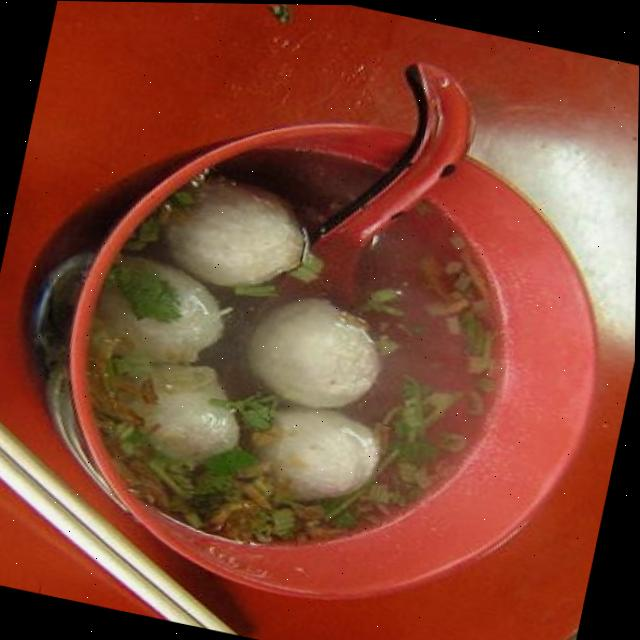熟制海鲜: (17, 28, 640, 640)
